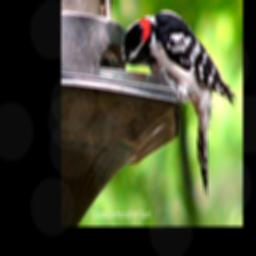Woodpecker: (115, 8, 239, 199)
